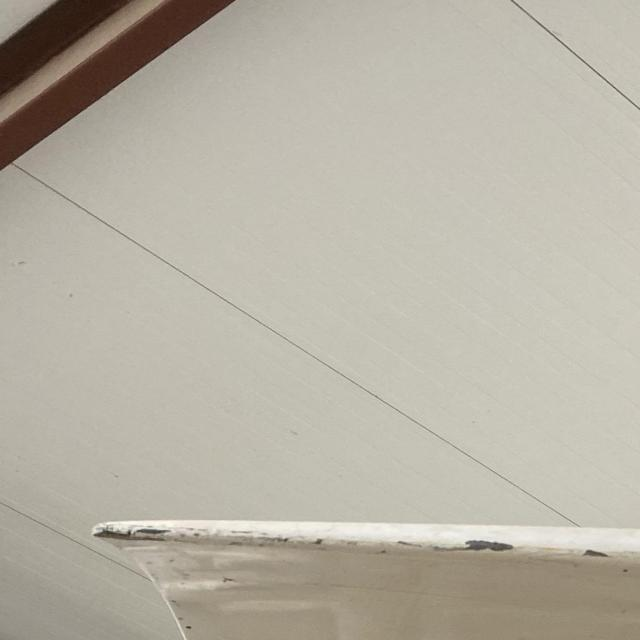Paint-off: (397, 536, 515, 552), (89, 523, 167, 544), (211, 571, 240, 588), (180, 619, 195, 635), (580, 548, 603, 555)
